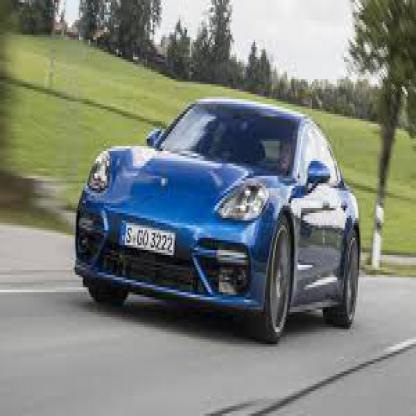car: (74, 97, 361, 339)
